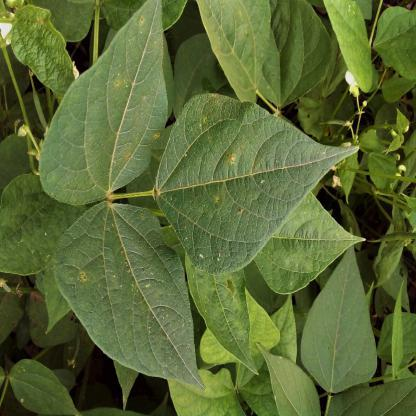Beans_Rust: (156, 91, 358, 274), (50, 202, 209, 394), (38, 0, 170, 208)
